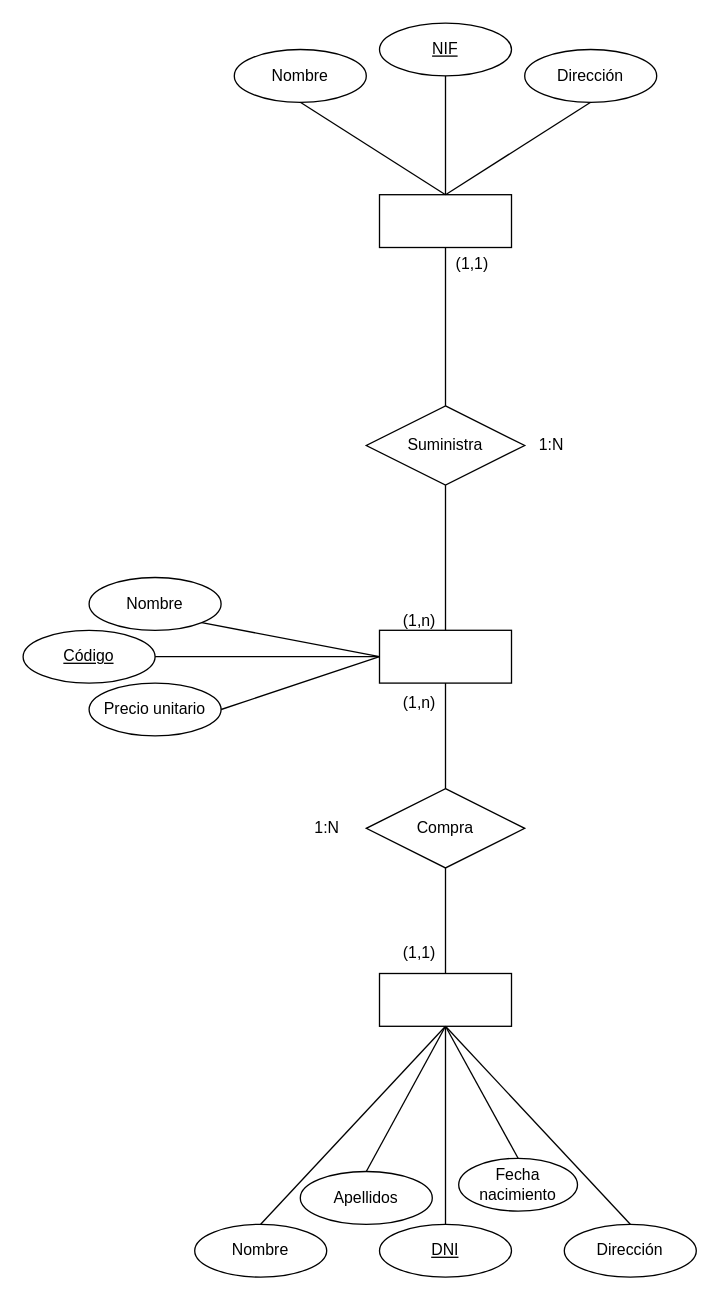
This 719x1300 diagram has some shape labels left out. Here are the shapes that lost their labels. From the top down, the centre of each, then its label:
At point (445, 220): "Proveedores".
At point (445, 656): "Producto".
At point (445, 999): "Clientes".
